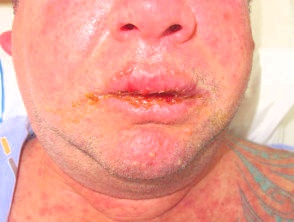SJS-TEN: (26, 40, 249, 155)
